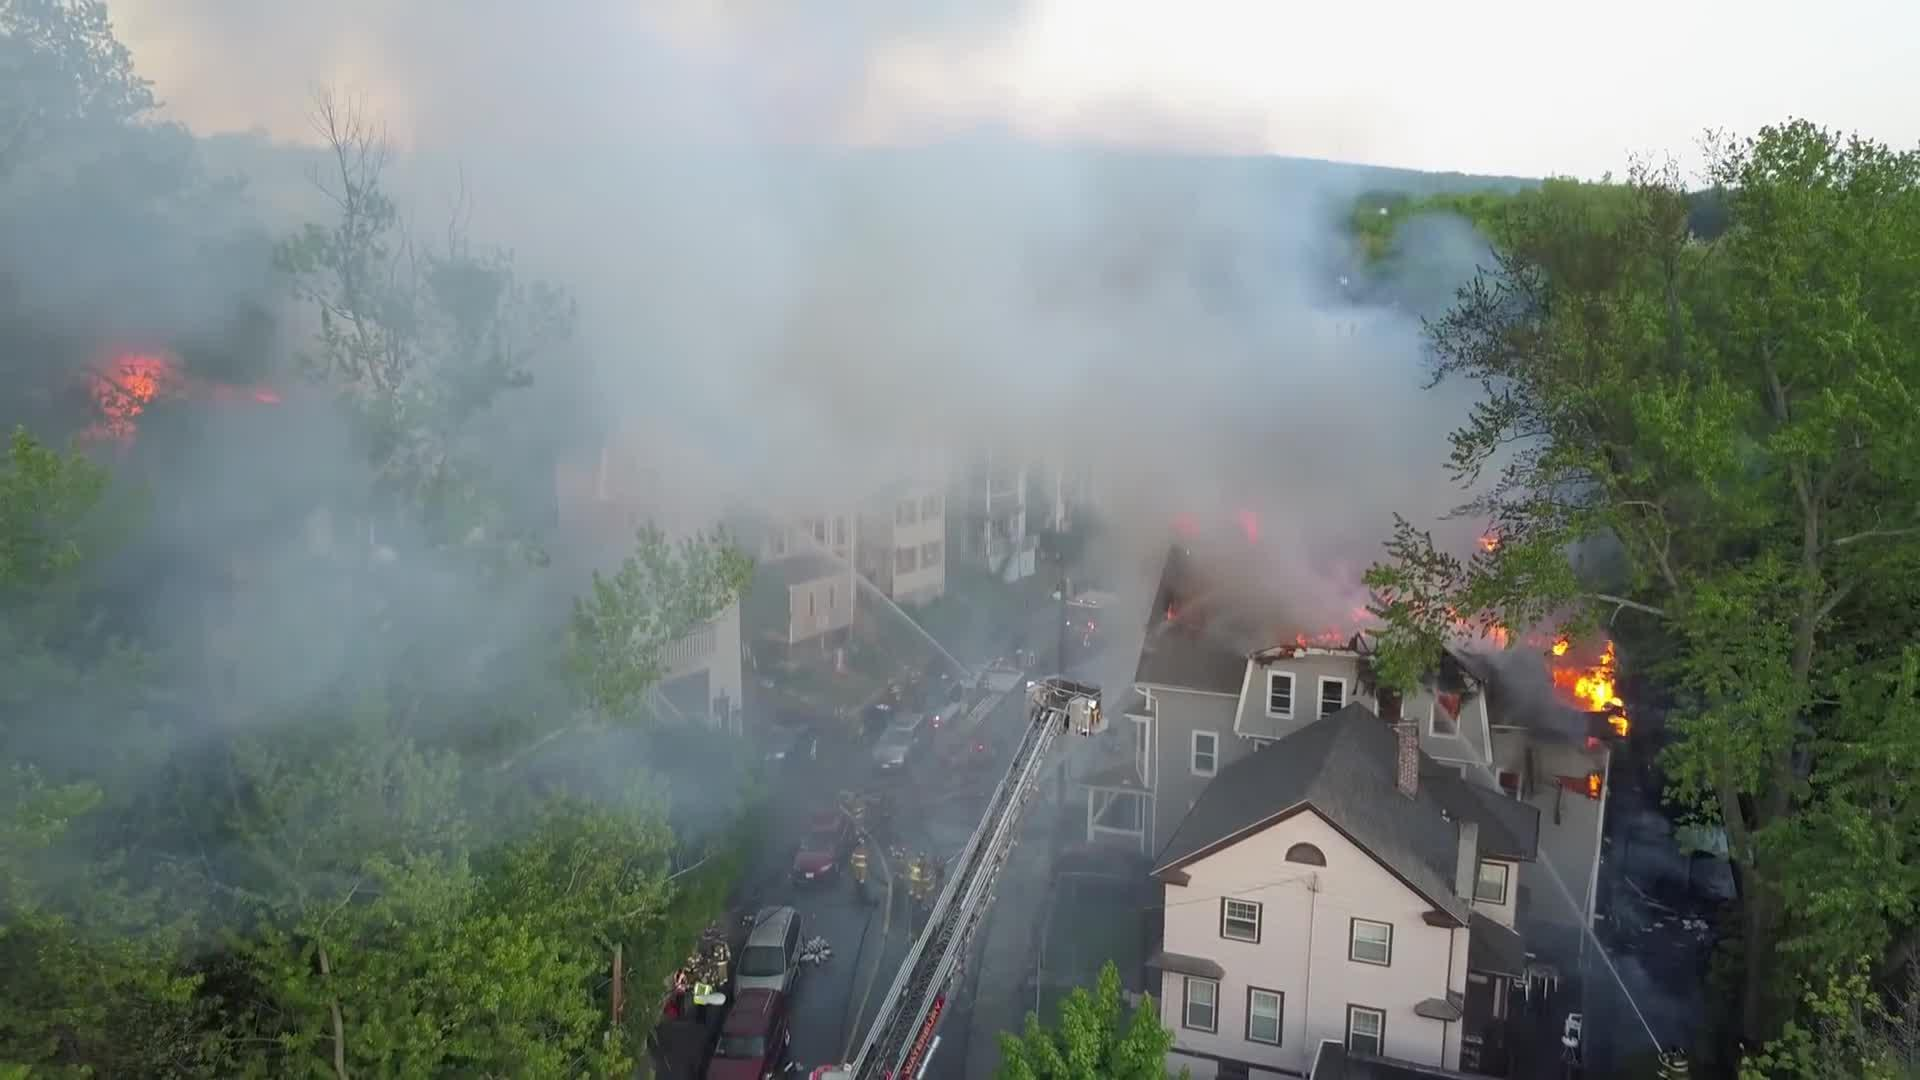fire: (1536, 608, 1643, 754), (57, 333, 183, 454)
smoke: (429, 18, 1435, 478)
